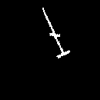double_crochet: (43, 8, 69, 57)
